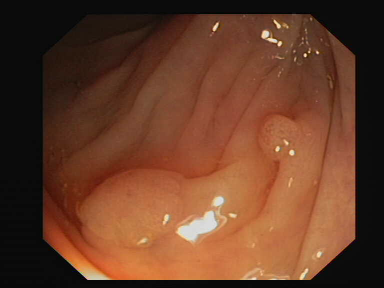polyp: (57, 141, 229, 265), (242, 104, 309, 167)
